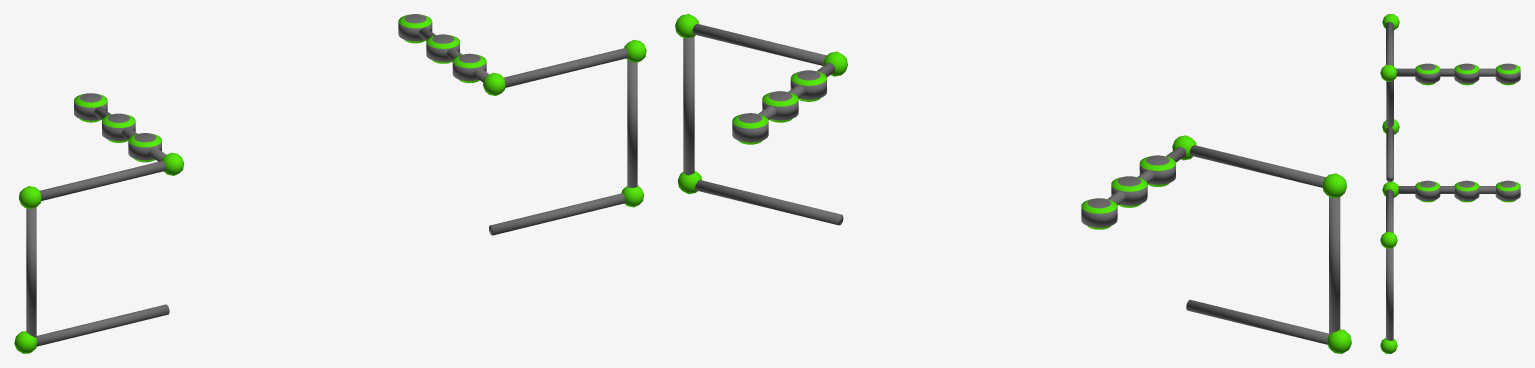
Rendered from kahveD+Âk+-c+-2.fbx.
3 views of the same model, side by side, from view 1: azimuth 30°, elevation 25°; view 2: azimuth 150°, elevation 25°; view 3: azimuth 270°, elevation 25° (orthographic). The views are drawn at different scales.
Visible parts, largest first — view 1: Left, Rght; view 2: Left, Rght; view 3: Left, Rght.
Boxes of the visible parts, x1=… form: Left: x1=14, y1=93, x2=184, y2=353; Rght: x1=398, y1=14, x2=646, y2=235; Left: x1=1081, y1=135, x2=1351, y2=353; Rght: x1=675, y1=14, x2=847, y2=225; Left: x1=1380, y1=14, x2=1520, y2=181; Rght: x1=1380, y1=180, x2=1520, y2=353.
Size of the model in its own units: 4277 by 1076 by 1121.
